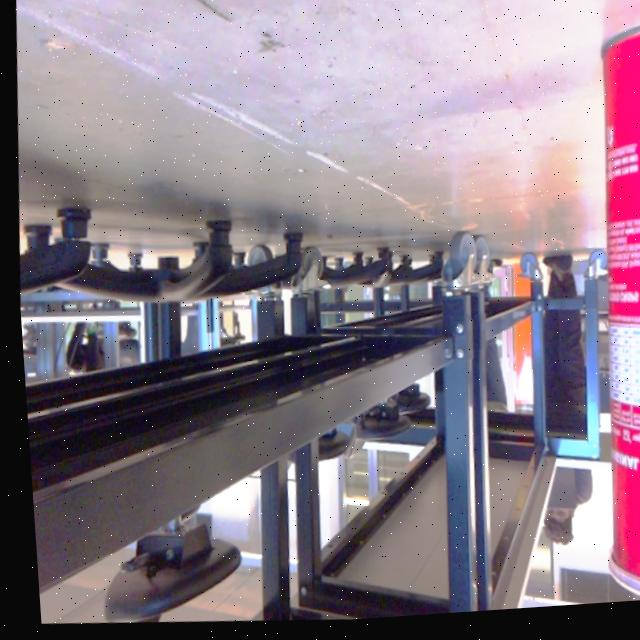redpringles: (554, 2, 640, 611)
